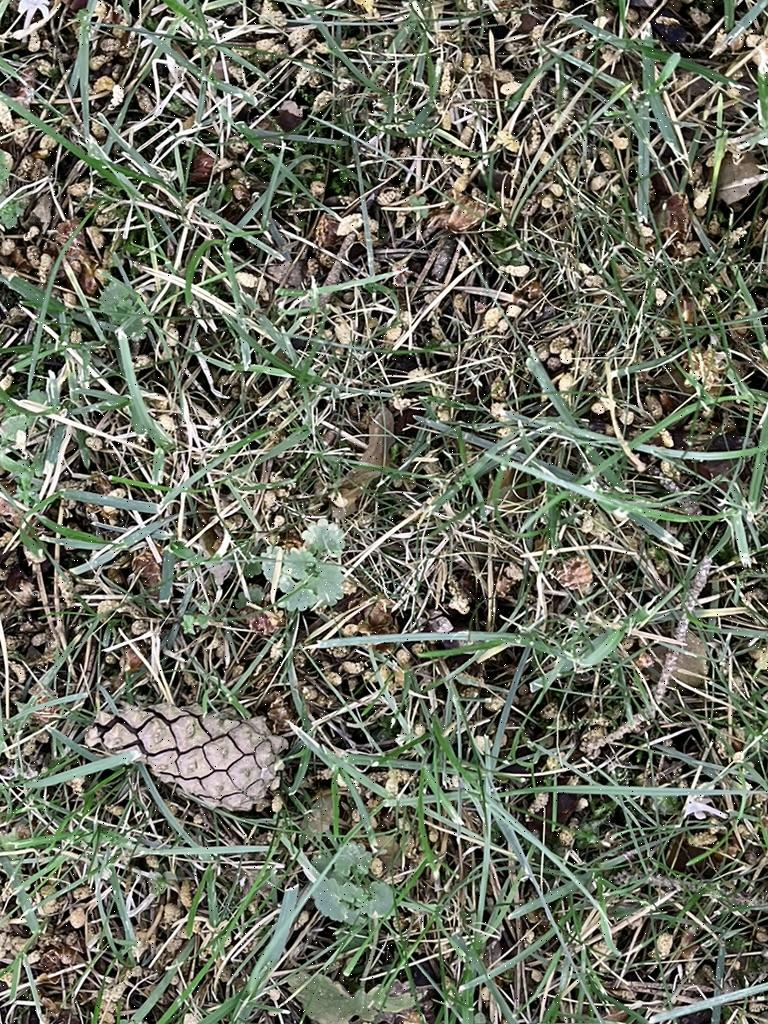pine: (76, 688, 306, 828)
